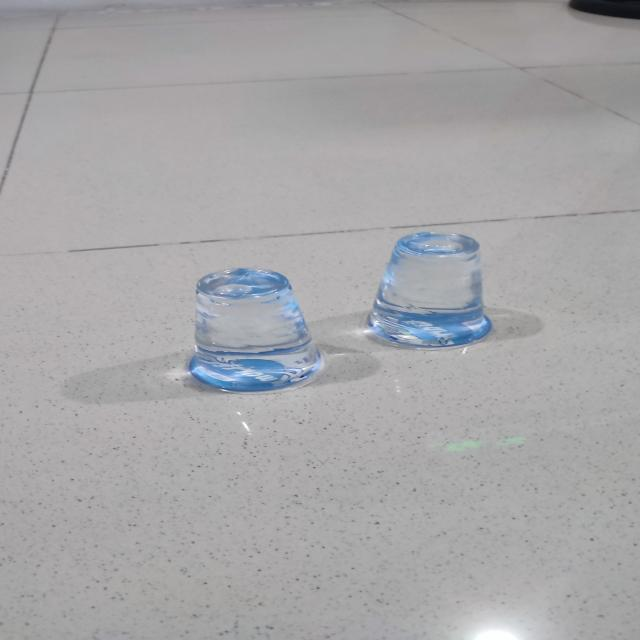air gelas: (181, 260, 328, 402), (364, 230, 495, 350)
